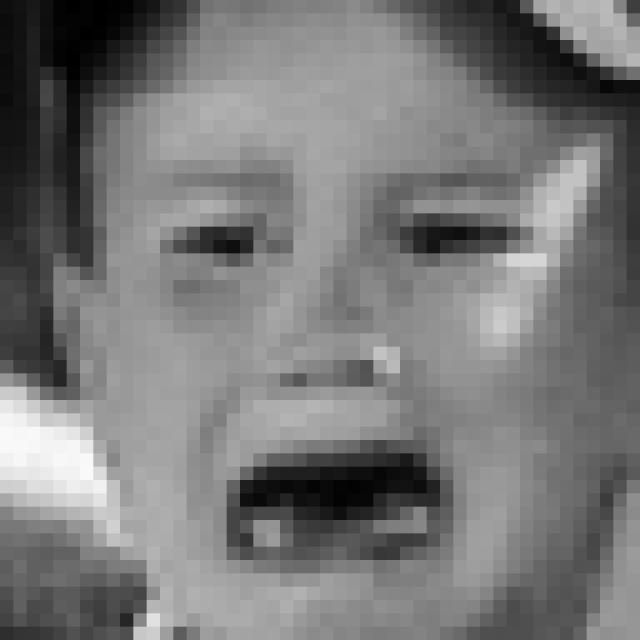sad: (156, 163, 553, 581)
